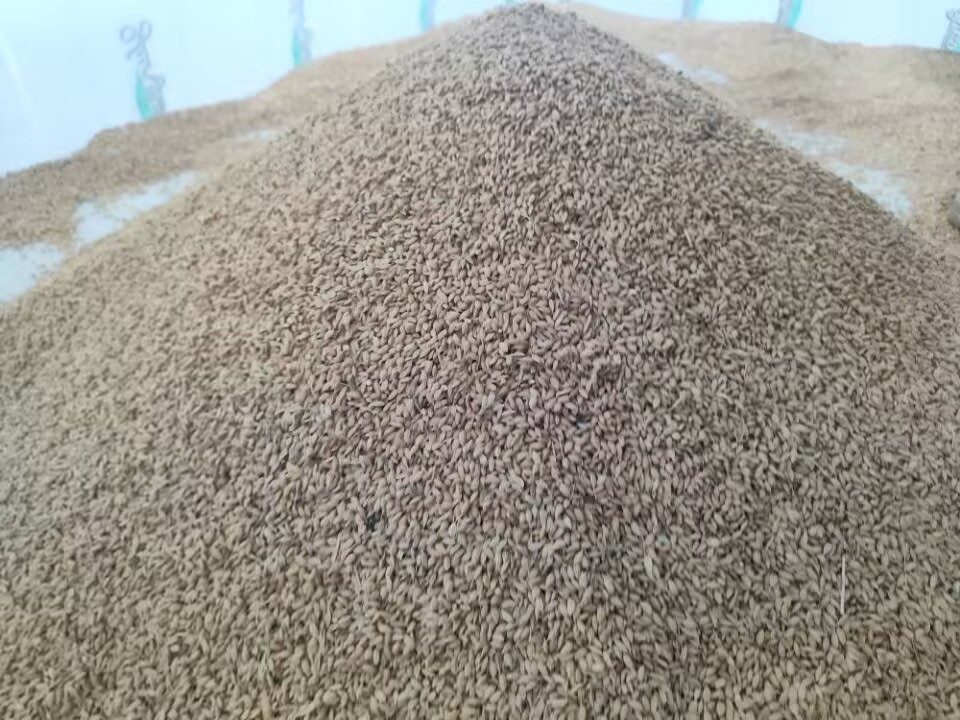Grain: (94, 3, 912, 657)
